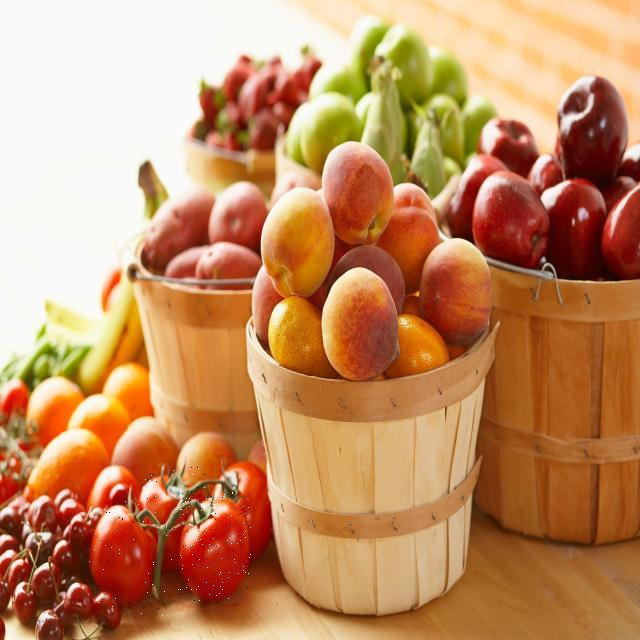Tomato: (135, 466, 220, 596), (87, 496, 174, 616), (178, 492, 251, 601)
